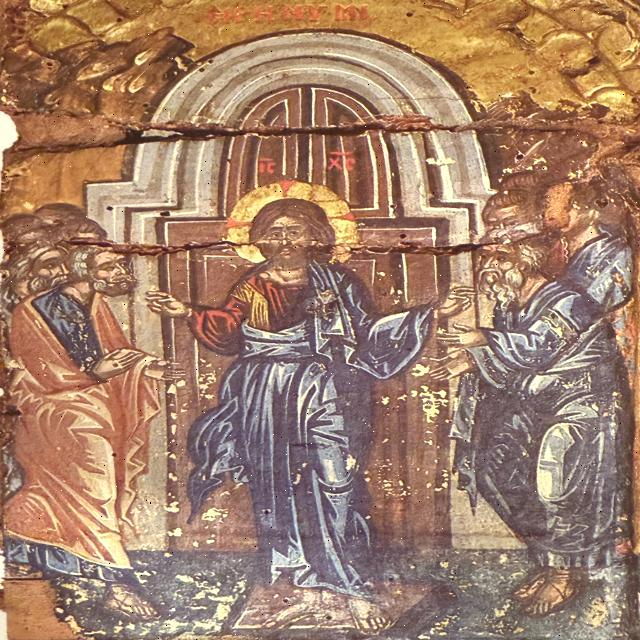aura: (223, 179, 363, 274)
christ: (148, 176, 466, 635)
